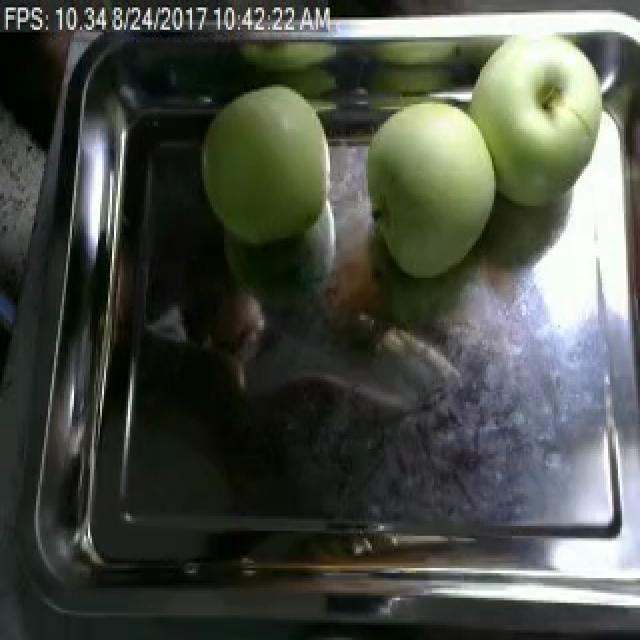50-_ripeness: (468, 22, 609, 230), (353, 92, 498, 271), (199, 74, 332, 260)
